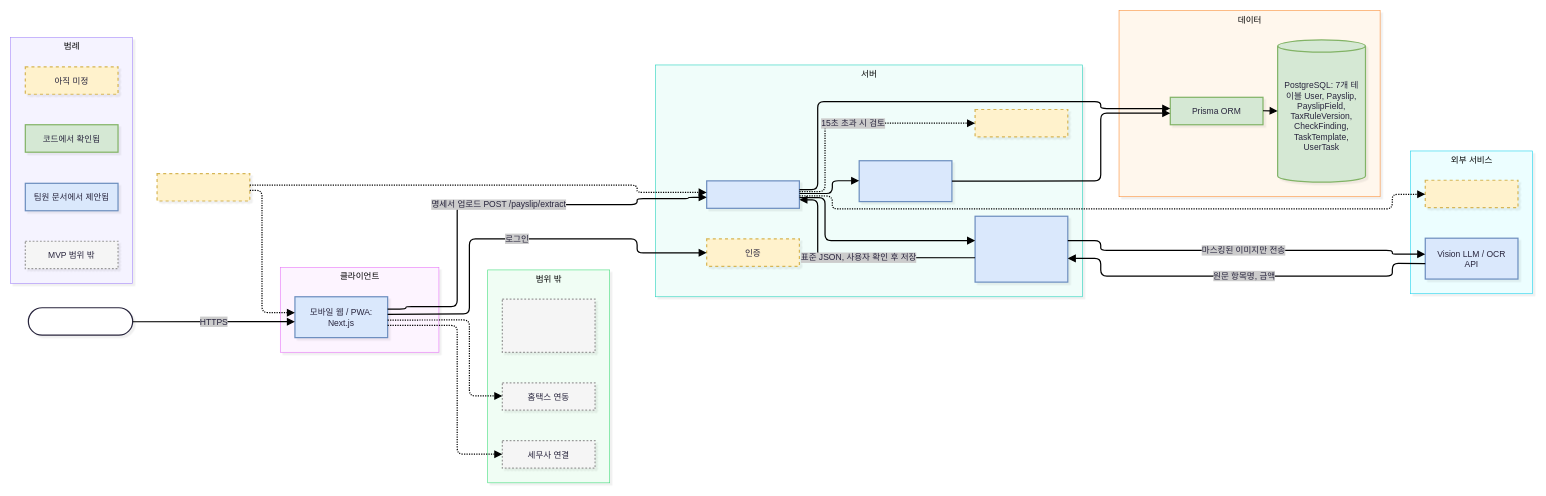
Some shapes in this 1546 by 496 pixel diagram are drawn without their labels. The shapes that lost their labels are listed below. From the top down, each one's centre as x and y in pixels, then its label:
(x=1022, y=124): 비동기 작업 큐
(x=204, y=188): 배포 / 호스팅
(x=754, y=195): API: Next.js API
(x=906, y=182): 규칙 엔진: 감면/공제 점검
(x=1472, y=194): 알림 발송
(x=1022, y=250): OCR 파트: 전처리, 개인정보 마스킹, 정규화, 검증. 원본은 추출 직후 삭제
(x=81, y=322): 사용자: 사회초년생
(x=549, y=326): 원본 파일 저장소 S3: 원본 미저장 방침으로 불필요
